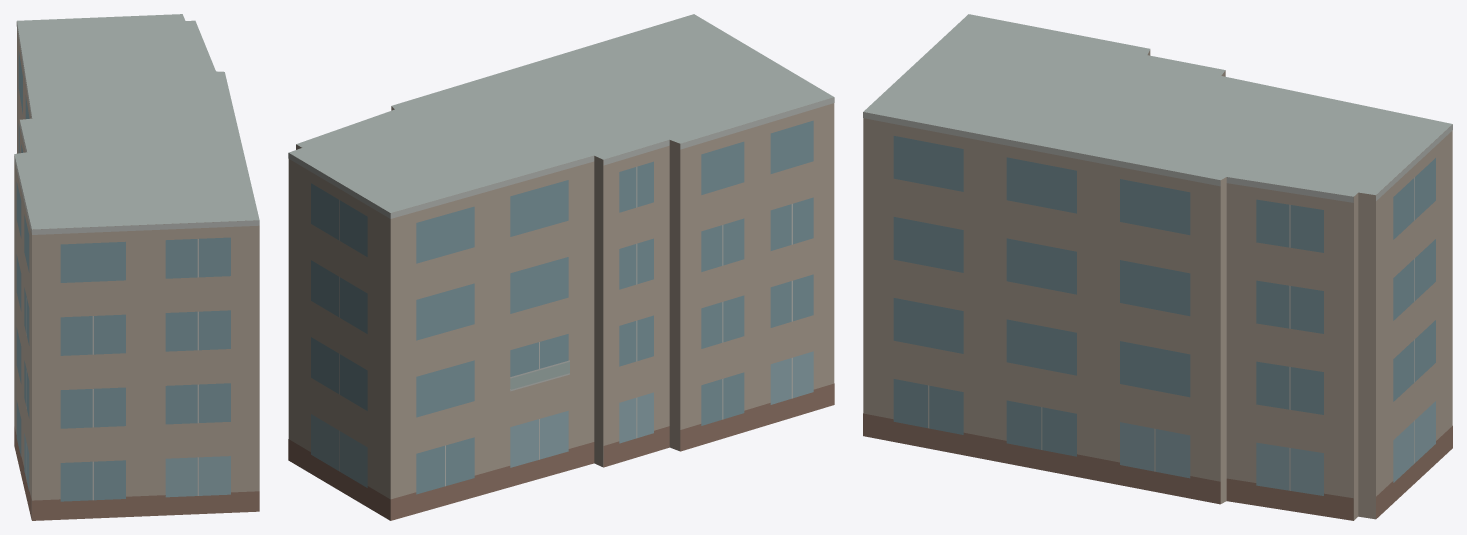
Rendered from survey-upis-32638592.glb.
3 renders of one model, left to right at view 1: azimuth 30°, elevation 25°; view 2: azimuth 150°, elevation 25°; view 3: azimuth 270°, elevation 25°, orthographic. The views are drawn at different scales.
Visible parts, largest first — view 1: survey-upis-32638592.tmp; view 2: survey-upis-32638592.tmp; view 3: survey-upis-32638592.tmp.
Part boxes in pixels (left/top/right/bottom): survey-upis-32638592.tmp: left=14, top=14, right=259, bottom=520; survey-upis-32638592.tmp: left=288, top=14, right=834, bottom=520; survey-upis-32638592.tmp: left=863, top=14, right=1452, bottom=520.
Bounding box in the file's own units: 15.49 × 12.8 × 21.11.
